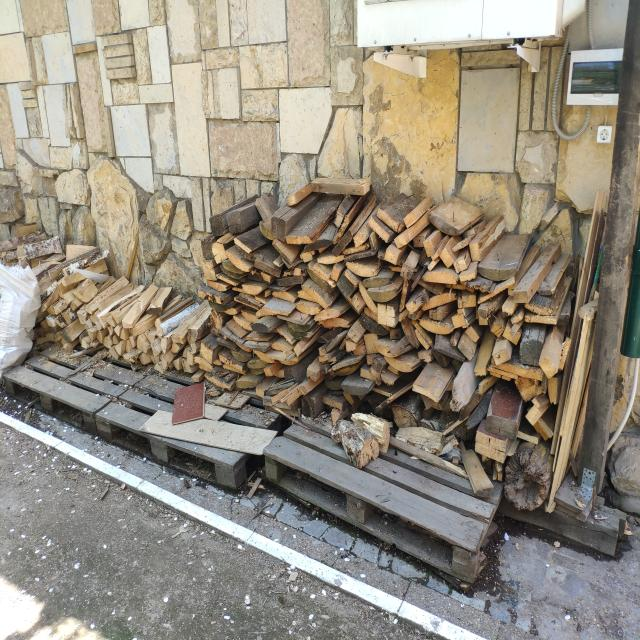entulho: (269, 398, 506, 581), (214, 182, 409, 402), (411, 207, 543, 415), (533, 210, 607, 516), (100, 356, 252, 499), (32, 259, 204, 368), (10, 319, 155, 401), (26, 246, 114, 326), (504, 426, 555, 520), (1, 230, 68, 266)
